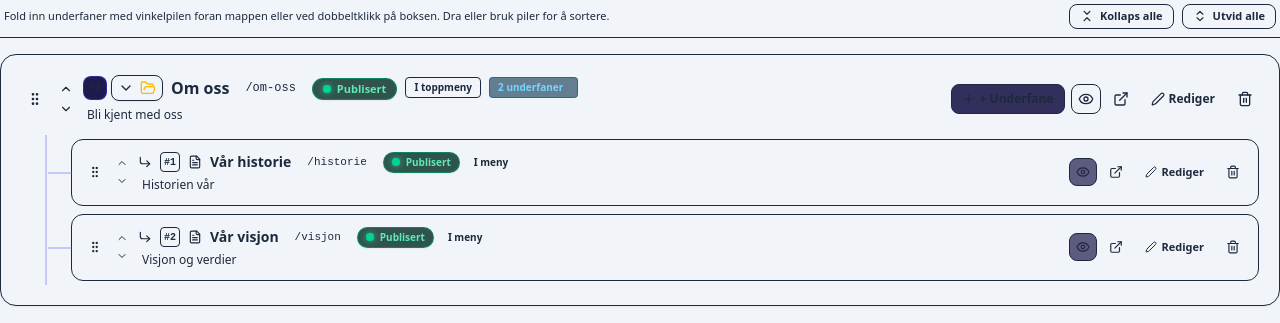
PageTreeList: Kollaps og utvidelse av sidehierarkiet › kan kollapse underfaner ved å klikke på foldepilen
The image size is (1280, 323).
# Klikk for å kollapse
Click the button named "Kollaps underfaner" at (137, 88), box [111, 75, 163, 101]
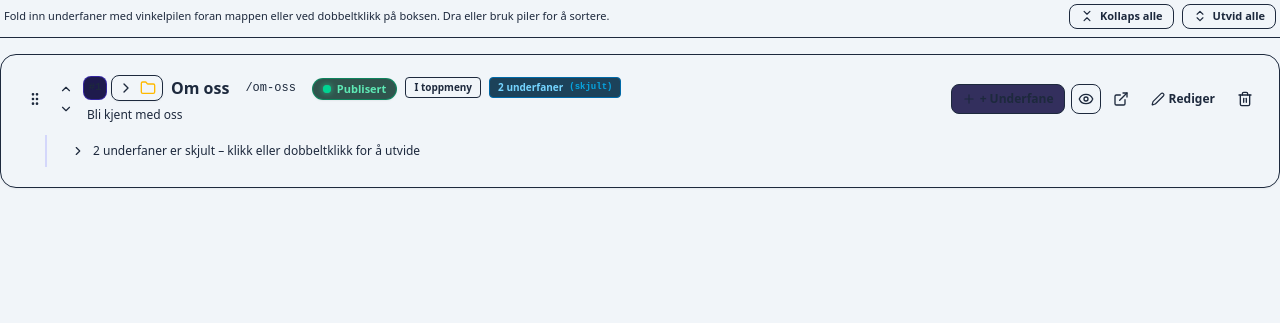
Expected: the heading "Vår historie" is gone
Expected: the heading "Vår visjon" is gone
Expected: the text "2 underfaner er skjult" is shown, [93, 143, 420, 159]
# Klikk på nytt for å utvide igjen
Click the button named "Vis underfaner" at (137, 88), box [111, 75, 163, 101]
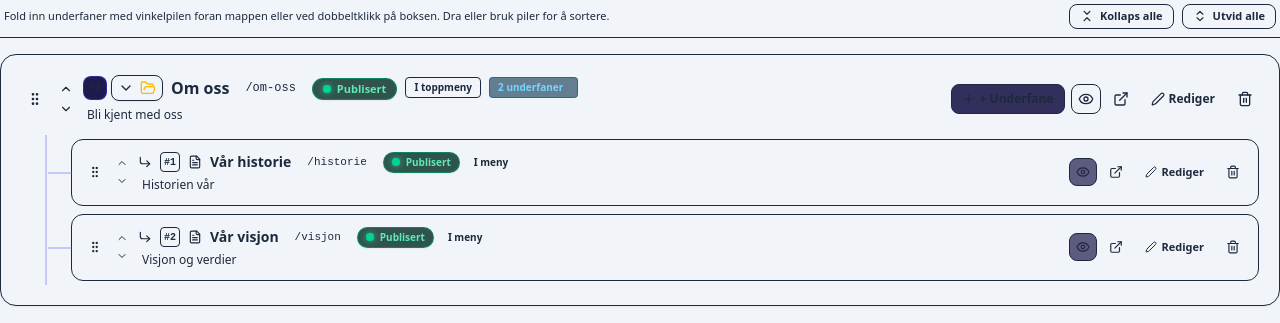
Expected: the heading "Vår historie" is shown, [210, 152, 291, 172]
Expected: the heading "Vår visjon" is shown, [210, 227, 279, 247]
